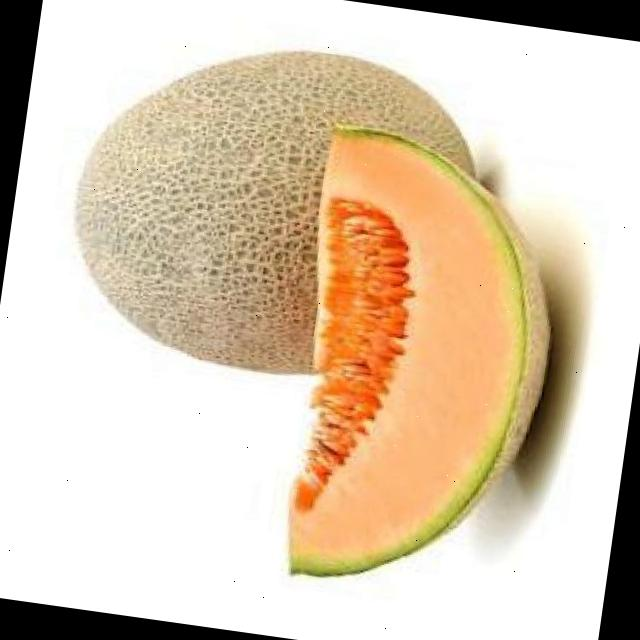Hami Melon: (54, 22, 488, 399), (269, 127, 575, 607)
